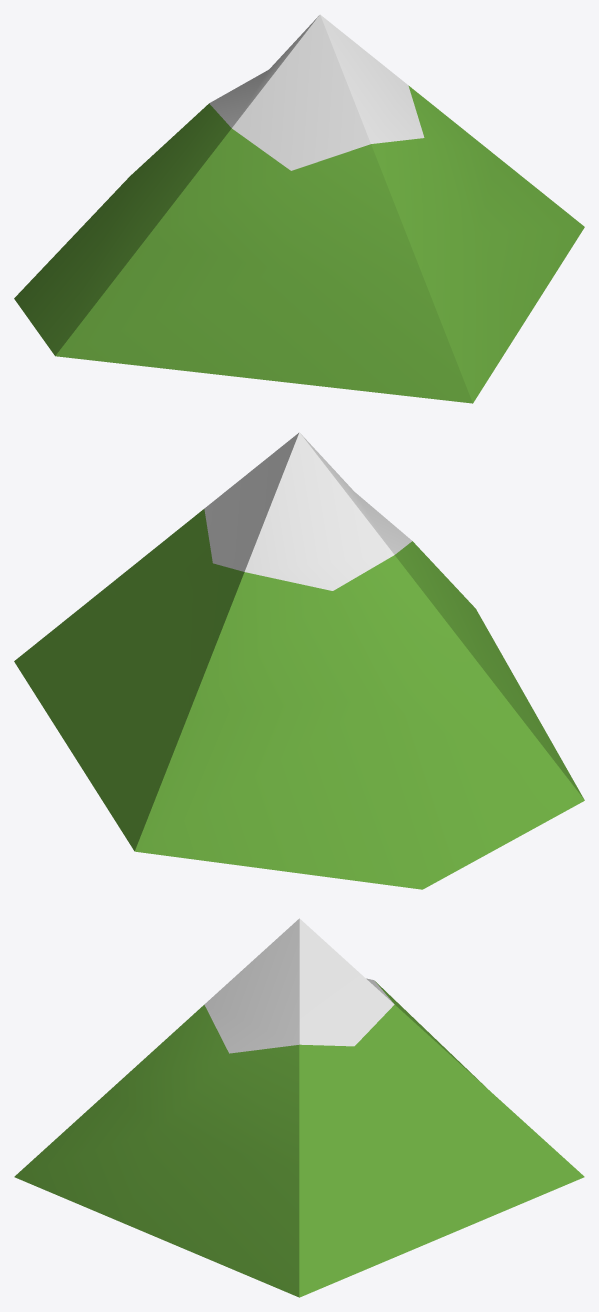
The model's file is Gora.fbx.
3 renders of one model, top to bottom at view 1: azimuth 30°, elevation 25°; view 2: azimuth 150°, elevation 25°; view 3: azimuth 270°, elevation 25°, orthographic. The views are drawn at different scales.
Visible parts, largest first — view 1: pPyramid1; view 2: pPyramid1; view 3: pPyramid1.
Part boxes in pixels (left/top/right/bottom): pPyramid1: left=14, top=14, right=584, bottom=403; pPyramid1: left=14, top=432, right=584, bottom=889; pPyramid1: left=14, top=918, right=584, bottom=1297.
Size of the model in its own units: 12.14 by 6.64 by 12.14.
